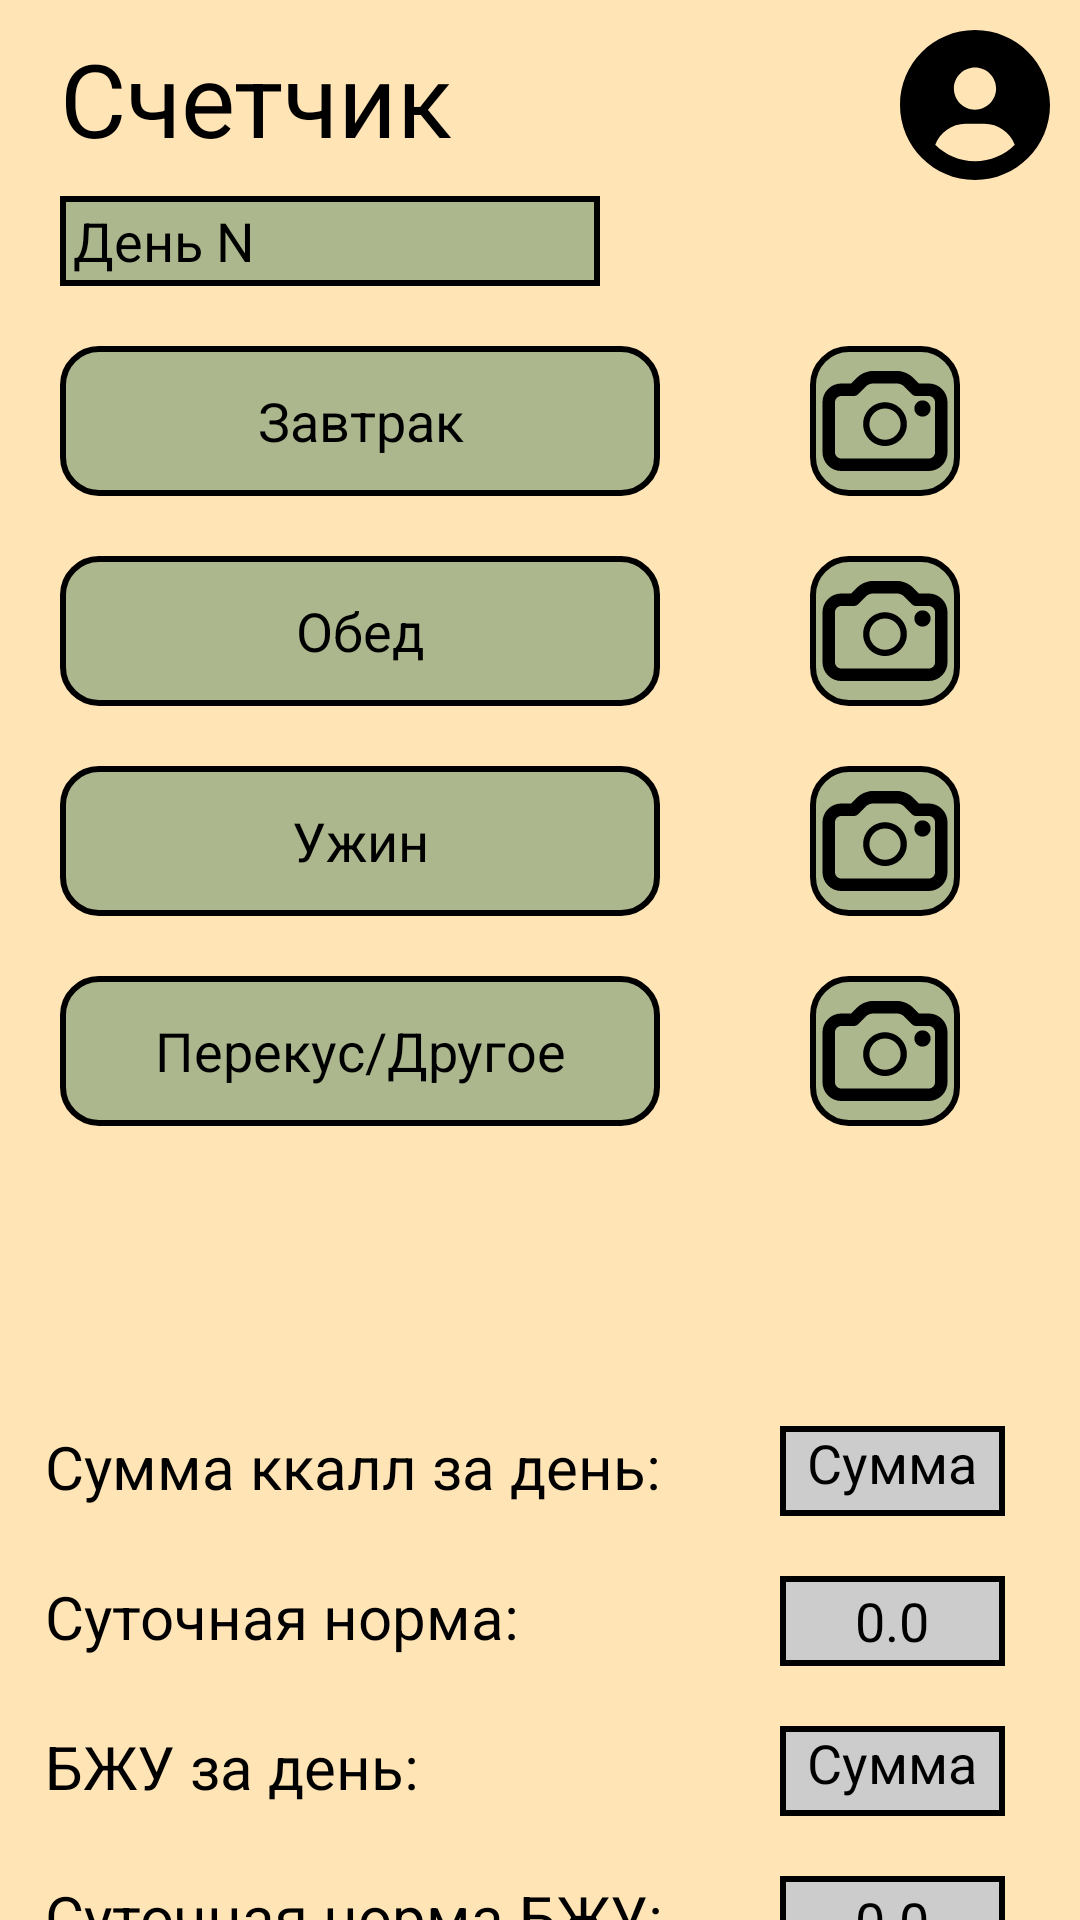

Icons on this 1080×1920 Android screen, each with the point to tap as (x,y):
custom camera: (885,421), (885,631), (885,841), (885,1051)
